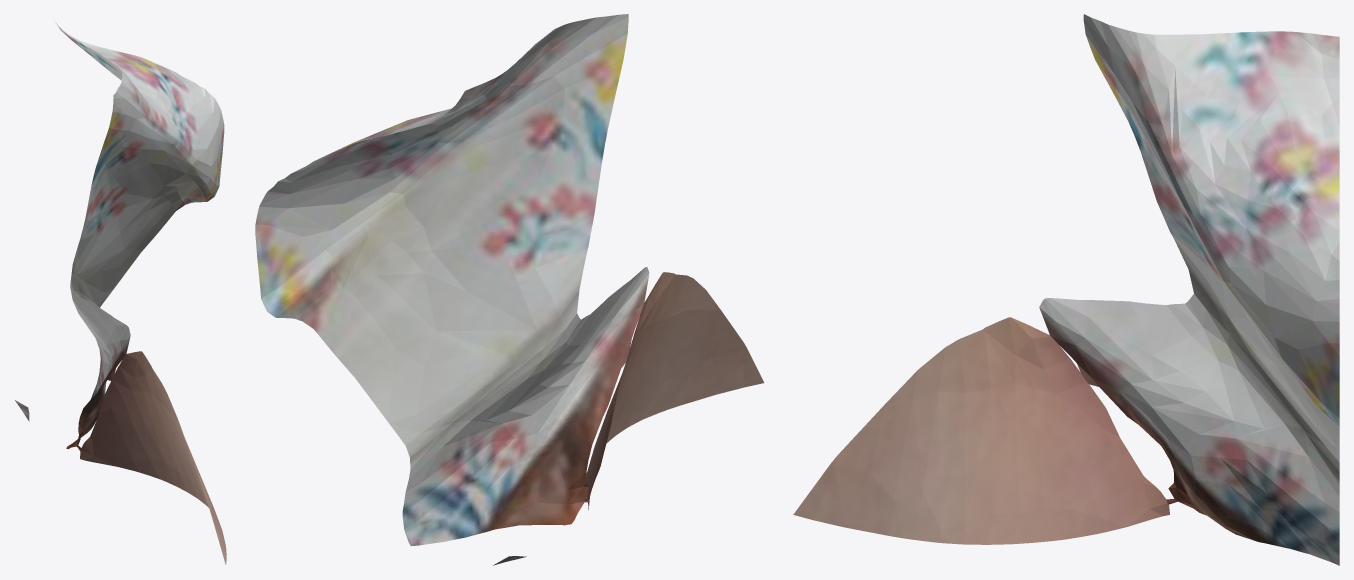
The picture shows the model from 3 angles, left to right: view 1: azimuth 30°, elevation 25°; view 2: azimuth 150°, elevation 25°; view 3: azimuth 270°, elevation 25°; orthographic projection. The views are drawn at different scales.
Parts seen in each view (by area): view 1: 091_W_Aya_100K_01; view 2: 091_W_Aya_100K_01; view 3: 091_W_Aya_100K_01.
Part boxes in pixels (x1=…): 091_W_Aya_100K_01: x1=15, y1=22, x2=226, y2=564; 091_W_Aya_100K_01: x1=255, y1=14, x2=764, y2=565; 091_W_Aya_100K_01: x1=793, y1=14, x2=1339, y2=565.
Size of the model in its own units: 48.54 by 85.74 by 84.8.
1 material, 1 textured.
